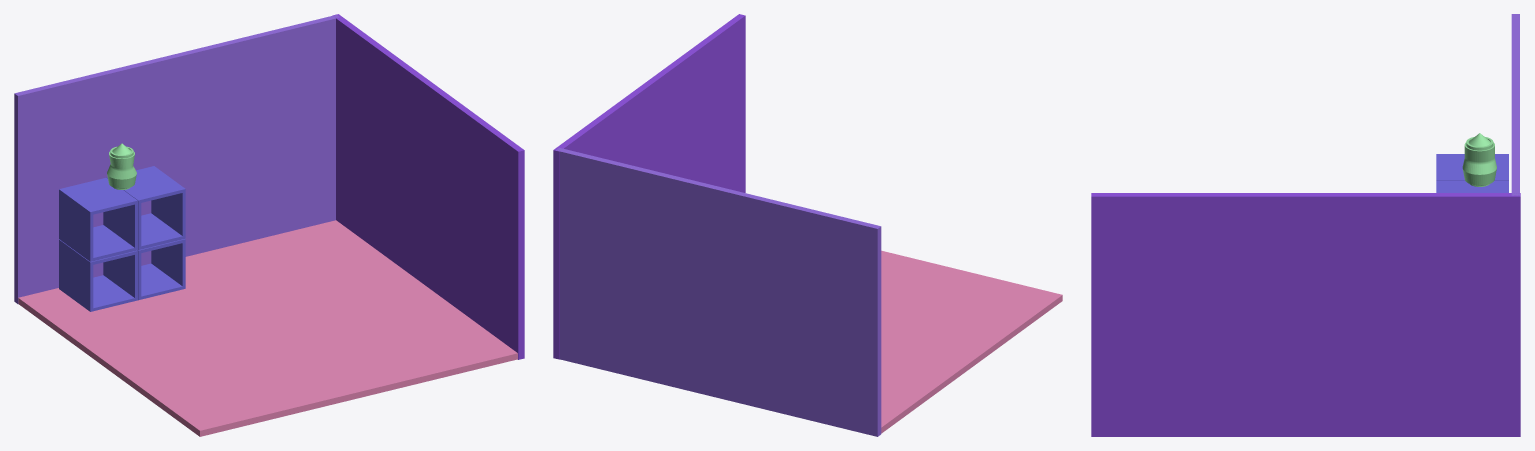
File: Room2.glb
3 views of the same model, side by side, from view 1: azimuth 30°, elevation 25°; view 2: azimuth 150°, elevation 25°; view 3: azimuth 270°, elevation 25° (orthographic). The views are drawn at different scales.
Visible parts, largest first — view 1: Floor, wall1, wall2, capboard1.001, Cylinder; view 2: wall1, wall2, Floor; view 3: wall2, capboard1.001, wall1, Cylinder.
Boxes of the visible parts, x1,y1,x2,y2 form: Floor: (18, 220, 517, 436); wall1: (14, 15, 339, 304); wall2: (332, 14, 524, 359); capboard1.001: (59, 166, 185, 311); Cylinder: (107, 143, 136, 189); wall1: (556, 147, 881, 436); wall2: (553, 14, 745, 359); Floor: (881, 250, 1062, 433); wall2: (1091, 193, 1520, 436); capboard1.001: (1436, 154, 1508, 192); wall1: (1511, 14, 1519, 195); Cylinder: (1462, 133, 1496, 186).
Bounding box in the file's own units: 13.67 × 8.38 × 13.58.
